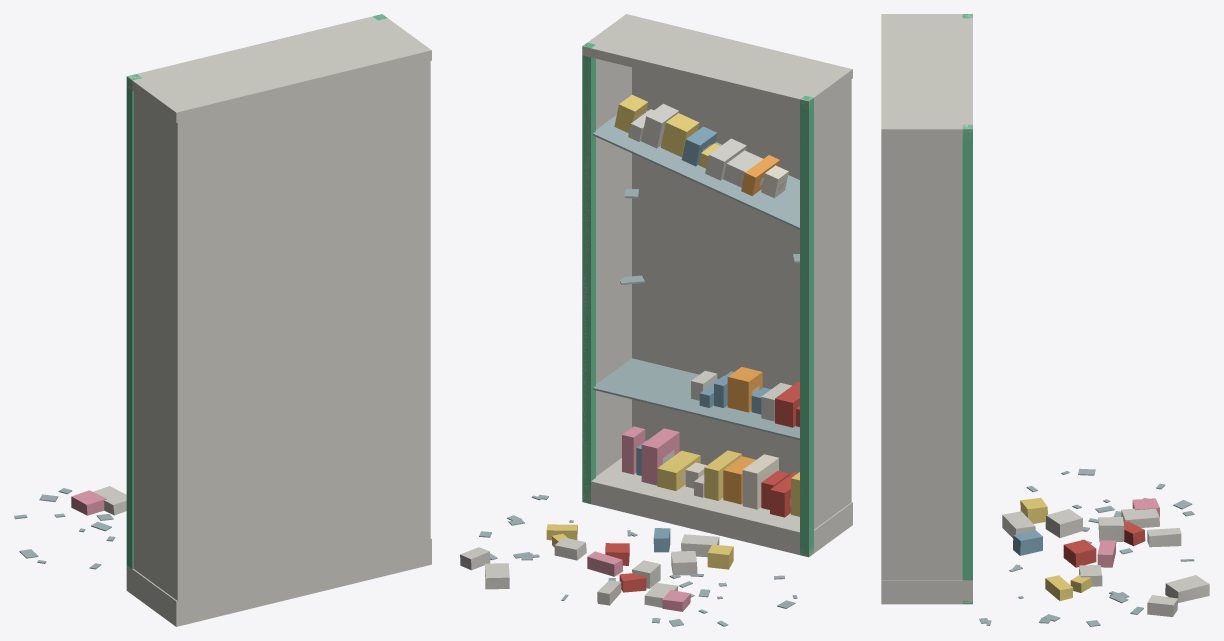
The model's file is glass_shelf_broken.fbx.
3 views of the same model, side by side, from view 1: azimuth 30°, elevation 25°; view 2: azimuth 150°, elevation 25°; view 3: azimuth 270°, elevation 25° (orthographic). The views are drawn at different scales.
Visible parts, largest first — view 1: glass_shelf_broken, glass_shelf_broken_debris, glass_shelf_broken_glass; view 2: glass_shelf_broken, glass_shelf_broken_glass, glass_shelf_broken_debris; view 3: glass_shelf_broken, glass_shelf_broken_debris, glass_shelf_broken_glass.
Part boxes in pixels (x1,y1,x2,y2): glass_shelf_broken: (126,14,431,626); glass_shelf_broken_debris: (71,486,126,515); glass_shelf_broken_glass: (14,488,115,569); glass_shelf_broken: (582,14,852,557); glass_shelf_broken_glass: (479,110,799,626); glass_shelf_broken_debris: (460,524,733,611); glass_shelf_broken: (881,14,972,604); glass_shelf_broken_debris: (1002,497,1209,616); glass_shelf_broken_glass: (979,468,1194,626).
Bounding box in the file's own units: 142 × 200 × 125.
